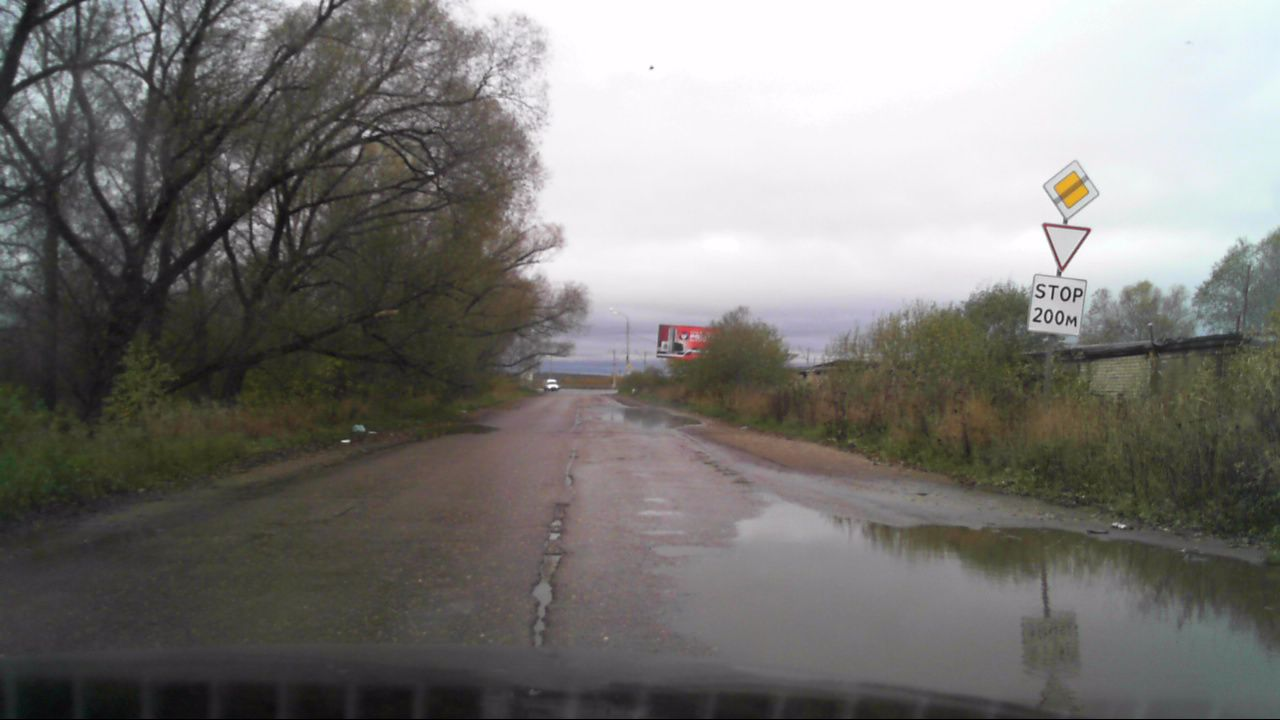main road: (1043, 155, 1100, 222)
